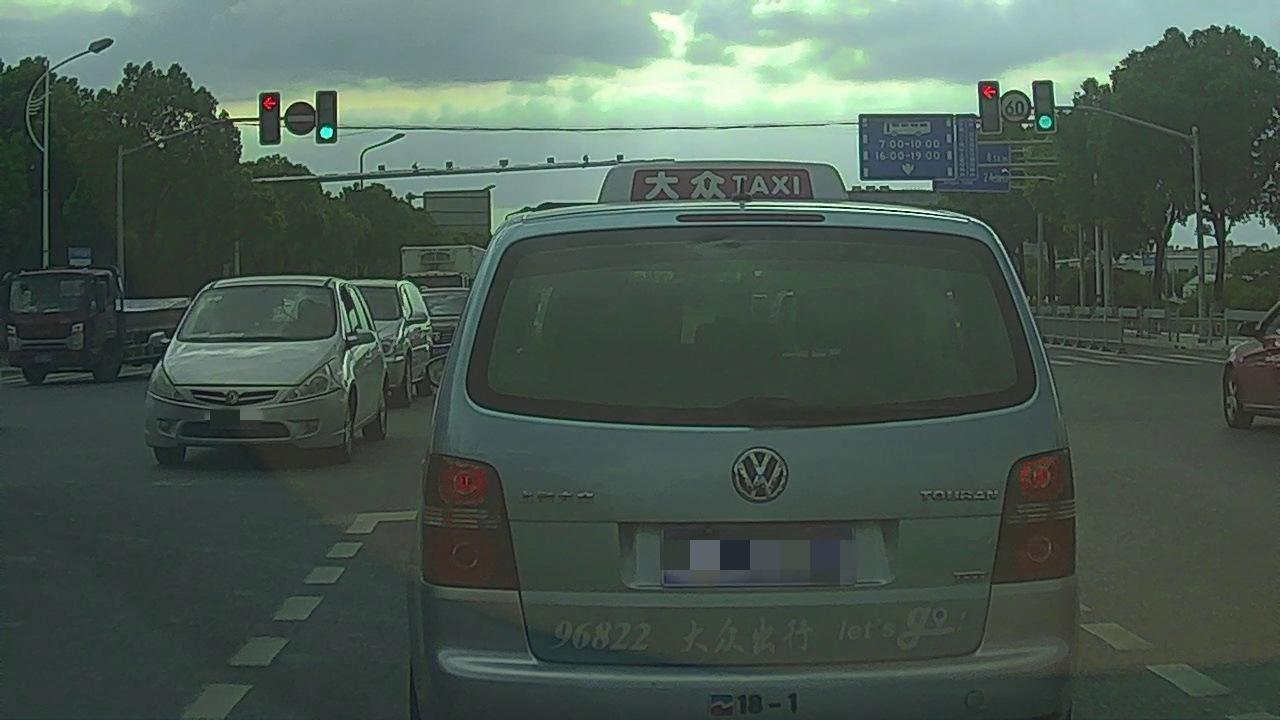traffic_light: (315, 90, 337, 144), (259, 91, 280, 145), (1033, 81, 1055, 132), (979, 80, 1000, 133)
